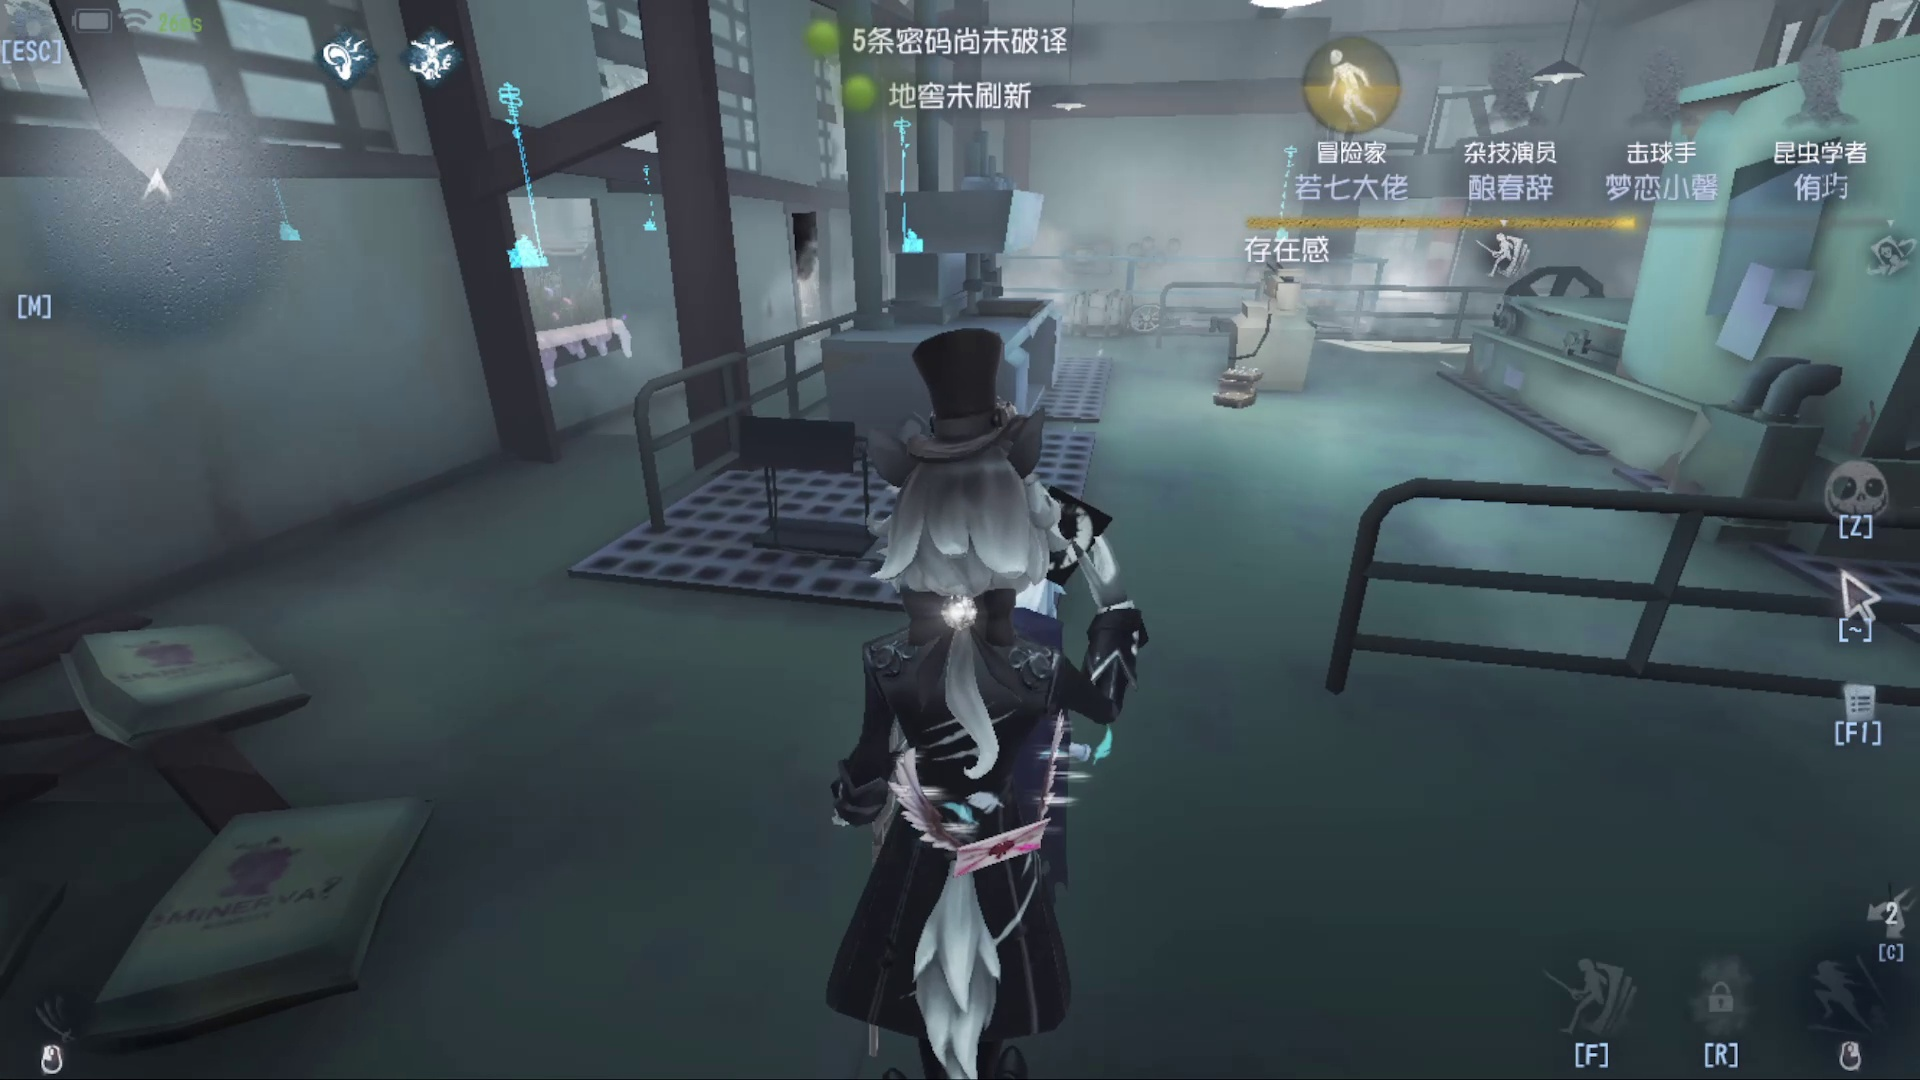密码机: (469, 78, 579, 277), (876, 115, 938, 266), (625, 154, 692, 251)
